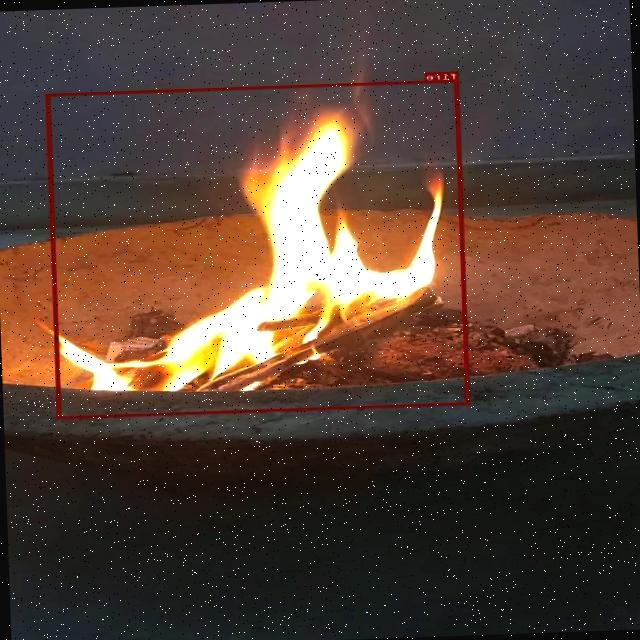fire: (47, 79, 470, 418)
